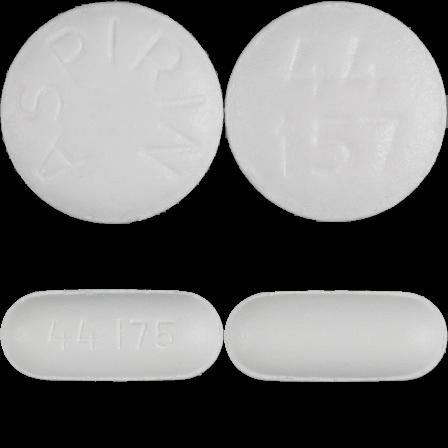50844-157: (0, 0, 224, 224)
